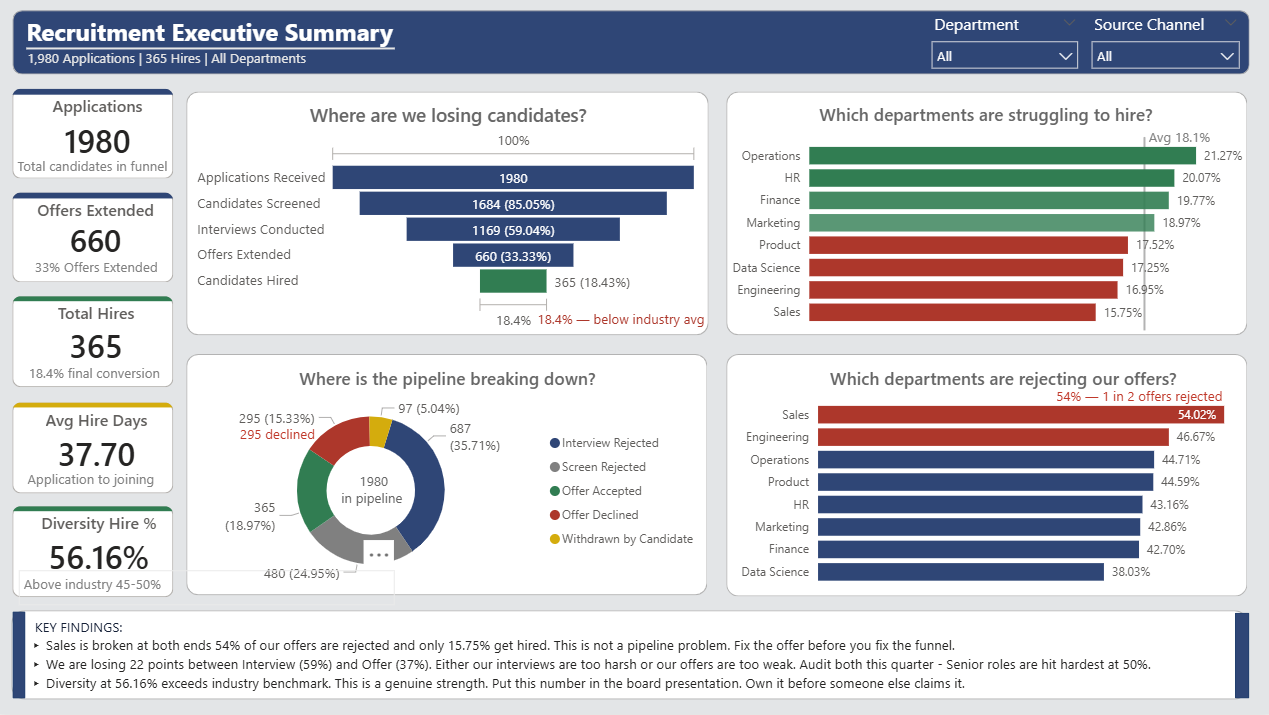

What the dashboard file says about the page in this screenshot:
{"tool":"powerbi","page":{"name":"Executive Summary","canvas":[1280,720],"ordinal":0},"visuals":[{"type":"shape","box":[731.1,97.7,521.2,243.7],"z":0},{"type":"shape","box":[191.8,97.7,522.4,243.7],"z":1000},{"type":"shape","box":[191.8,359.5,521.2,241.3],"z":2000},{"type":"shape","box":[731.1,359.5,521.2,242.5],"z":3000},{"type":"shape","box":[17.1,15.7,1237.1,64.3],"z":4000},{"type":"shape","box":[16.7,616.7,1236.9,89.3],"z":5000},{"type":"shape","box":[17.9,617.9,13.1,86.9],"z":6000},{"type":"cardVisual","fields":{"Data":["Sum(Recruitment_Dataset.Applications)"]},"box":[12,87,171,104.3],"z":7000},{"type":"cardVisual","fields":{"Data":["Recruitment_Dataset.Total Offers Made"]},"box":[12,191,171,104.3],"z":8000},{"type":"cardVisual","fields":{"Data":["Avg(Recruitment_Dataset.Time to Hire (days))"]},"box":[12,401,171.4,105.7],"z":9000},{"type":"cardVisual","fields":{"Data":["Sum(Recruitment_Dataset.Hired)"]},"box":[12,295,171,105.7],"z":10000},{"type":"cardVisual","fields":{"Data":["Recruitment_Dataset.Diversity Hire %"]},"box":[12,505,171,105],"z":11000},{"type":"funnel","title":"Where are we losing candidates?","fields":{"Y":["Sum(Recruitment_Dataset.Applications)","Sum(Recruitment_Dataset.Screened)","Sum(Recruitment_Dataset.Interviewed)","Recruitment_Dataset.Total Offers Made","Sum(Recruitment_Dataset.Hired)"]},"box":[197.9,107.4,511.5,232.8],"z":12000},{"type":"barChart","title":"Which departments are          struggling to hire?","fields":{"Category":["Recruitment_Dataset.Department"],"Y":["Recruitment_Dataset.Hire Rate %"]},"box":[727.1,108.6,527.1,232.9],"z":13000},{"type":"shape","box":[1240,618.6,14.3,85.7],"z":14000},{"type":"textbox","box":[25.7,15.7,440,42.9],"z":15000},{"type":"donutChart","title":"Where is the pipeline breaking down?","fields":{"Category":["Recruitment_Dataset.offer status clean"],"Y":["CountNonNull(Recruitment_Dataset.Candidate ID)"]},"box":[193,372.8,520,225.6],"z":16000},{"type":"barChart","title":"Which departments          are rejecting our offers?","fields":{"Category":["Recruitment_Dataset.Department"],"Y":["Recruitment_Dataset.Offer Decline Rate %"]},"box":[735.7,372.9,544.3,228.6],"z":17000},{"type":"textbox","box":[31.4,618.6,1180,101.4],"z":18000},{"type":"textbox","box":[1148.6,128.6,91.4,38.6],"z":19000},{"type":"textbox","box":[1056,388,192.9,37.1],"z":20000},{"type":"textbox","box":[341,473,87.1,64.3],"z":21000},{"type":"textbox","box":[240,425.7,160,47.1],"z":22000},{"type":"textbox","box":[537.1,311.4,190,28.6],"z":23000},{"type":"textbox","box":[17,157,171.4,42.9],"z":24000},{"type":"textbox","box":[35,259,141,36.2],"z":25000},{"type":"textbox","box":[29,365,171.4,41],"z":26000},{"type":"textbox","box":[28,471,368.6,32.9],"z":27000},{"type":"textbox","box":[24.3,575.7,375.7,35.7],"z":28000},{"type":"textbox","box":[24,50,371.4,31.4],"z":29000},{"type":"shape","box":[31.4,28.6,368.6,51.4],"z":30000},{"type":"slicer","fields":{"Values":["Recruitment_Dataset.Department"]},"box":[925.7,14,167.1,61.4],"z":31000},{"type":"slicer","fields":{"Values":["Recruitment_Dataset.Source Channel"]},"box":[1085.7,14,168.6,65.7],"z":32000}]}

Visuals, with their boxes in screenshot pixels (x1, y1, x2, y2), scaled from the page's 1280x720 canvas onto the 1269x715 screenshot:
shape: box=[725, 97, 1242, 339]
shape: box=[190, 97, 708, 339]
shape: box=[190, 357, 707, 597]
shape: box=[725, 357, 1242, 598]
shape: box=[17, 16, 1243, 79]
shape: box=[17, 612, 1243, 701]
shape: box=[18, 614, 31, 700]
cardVisual - Sum(Recruitment_Dataset.Applications): box=[12, 86, 181, 190]
cardVisual - Recruitment_Dataset.Total Offers Made: box=[12, 190, 181, 293]
cardVisual - Avg(Recruitment_Dataset.Time to Hire (days)): box=[12, 398, 182, 503]
cardVisual - Sum(Recruitment_Dataset.Hired): box=[12, 293, 181, 398]
cardVisual - Recruitment_Dataset.Diversity Hire %: box=[12, 501, 181, 606]
"Where are we losing candidates?" funnel: box=[196, 107, 703, 338]
"Which departments are          struggling to hire?" barChart: box=[721, 108, 1243, 339]
shape: box=[1229, 614, 1244, 699]
textbox: box=[25, 16, 462, 58]
"Where is the pipeline breaking down?" donutChart: box=[191, 370, 707, 594]
"Which departments          are rejecting our offers?" barChart: box=[729, 370, 1268, 597]
textbox: box=[31, 614, 1201, 714]
textbox: box=[1139, 128, 1229, 166]
textbox: box=[1047, 385, 1238, 422]
textbox: box=[338, 470, 424, 534]
textbox: box=[238, 423, 397, 470]
textbox: box=[532, 309, 721, 338]
textbox: box=[17, 156, 187, 199]
textbox: box=[35, 257, 174, 293]
textbox: box=[29, 362, 199, 403]
textbox: box=[28, 468, 393, 500]
textbox: box=[24, 572, 397, 607]
textbox: box=[24, 50, 392, 81]
shape: box=[31, 28, 397, 79]
slicer - Recruitment_Dataset.Department: box=[918, 14, 1083, 75]
slicer - Recruitment_Dataset.Source Channel: box=[1076, 14, 1244, 79]
